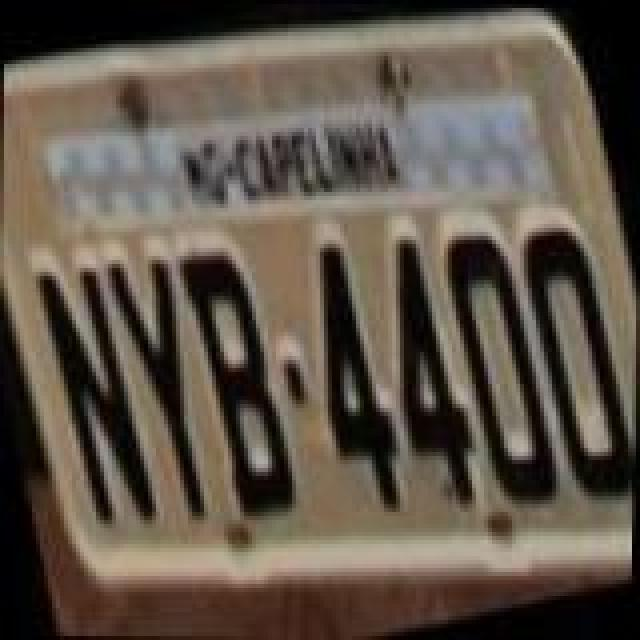4: (286, 230, 422, 526), (362, 224, 498, 520)
B: (172, 240, 308, 528)
N: (32, 252, 168, 540)
O: (432, 222, 572, 518), (506, 216, 638, 512)
Y: (98, 246, 230, 534)
